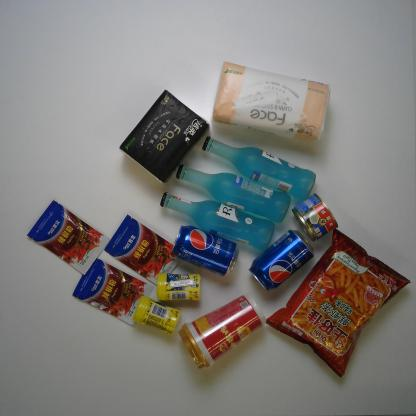Alcohol: (199, 134, 318, 202), (157, 190, 277, 252), (173, 162, 291, 224)
Canned Food: (290, 191, 340, 243)
Drink: (245, 225, 318, 292), (170, 223, 242, 278)
Gum: (130, 294, 182, 339), (153, 270, 203, 304)
Instant Drink: (176, 291, 268, 374)
Puffed Food: (262, 224, 412, 381)
Seasoner: (25, 198, 112, 277), (70, 256, 157, 329), (102, 211, 182, 288)
Tissue: (210, 58, 333, 146), (116, 87, 211, 186)
